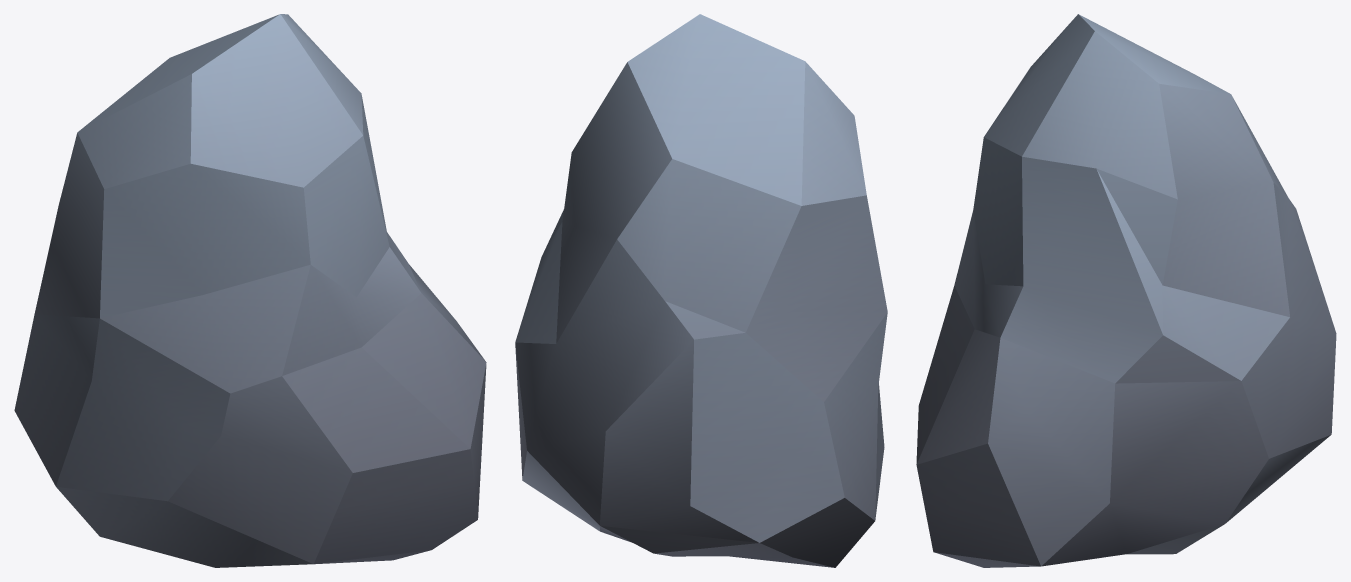
File: SM_Rock_09.fbx
3 views of the same model, side by side, from view 1: azimuth 30°, elevation 25°; view 2: azimuth 150°, elevation 25°; view 3: azimuth 270°, elevation 25° (orthographic).
Parts seen in each view (by area): view 1: Rock.008; view 2: Rock.008; view 3: Rock.008.
Part boxes in pixels (x1,y1,x2,y2): Rock.008: (14, 14, 486, 567); Rock.008: (515, 14, 887, 567); Rock.008: (916, 14, 1336, 567).
Bounding box in the file's own units: 401 × 528 × 394.
